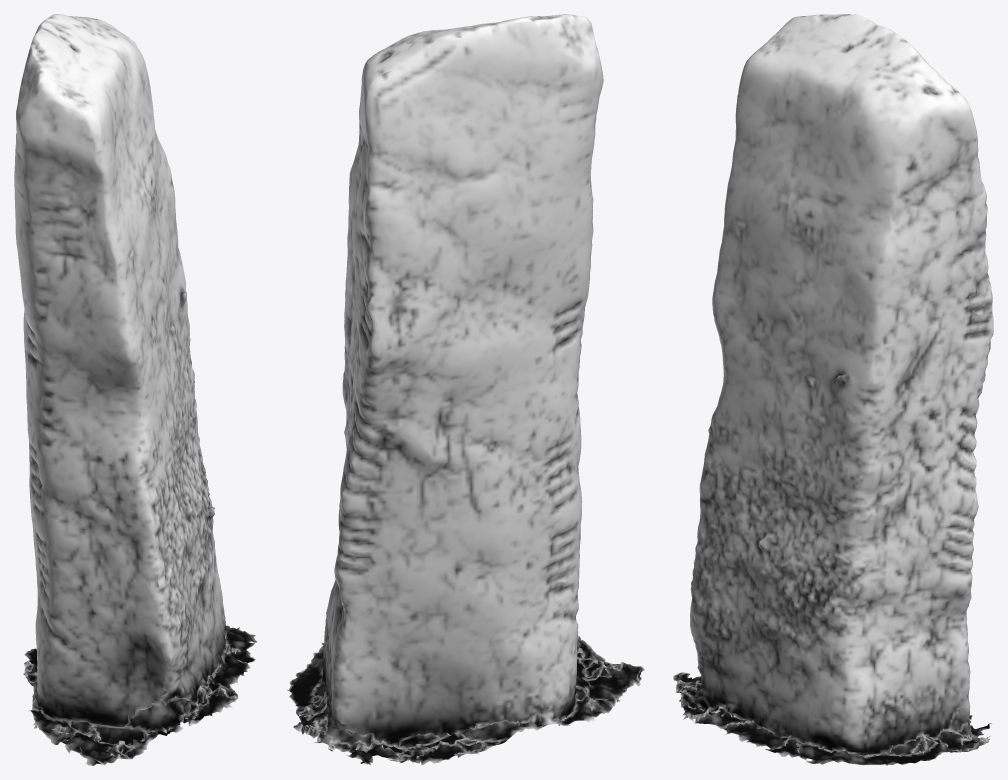
File: ke053-012005_-_baile_an_ghoilin_-_ogham_stone_Ballinrannig_II.glb
3 views of the same model, side by side, from view 1: azimuth 30°, elevation 25°; view 2: azimuth 150°, elevation 25°; view 3: azimuth 270°, elevation 25° (orthographic). The views are drawn at different scales.
Parts seen in each view (by area): view 1: Object_2; view 2: Object_2; view 3: Object_2.
Boxes of the visible parts, left/top/right/bottom form: Object_2: left=14, top=14, right=257, bottom=765; Object_2: left=286, top=14, right=644, bottom=765; Object_2: left=673, top=14, right=993, bottom=765.
Bounding box in the file's own units: 6.19 × 15.95 × 6.81.
1 material, 1 textured.
